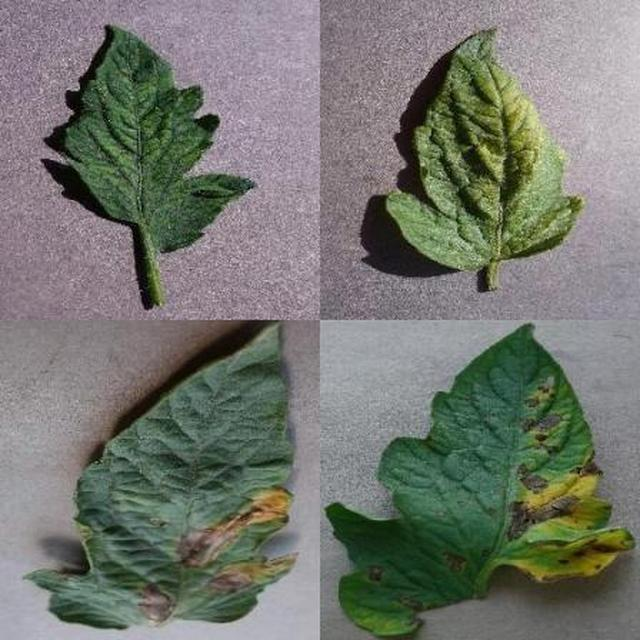Mosaic Virus Leaf: (227, 202, 640, 640)
